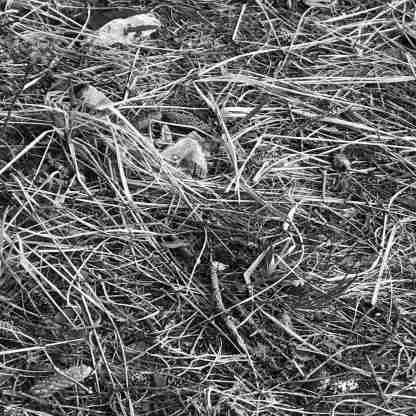plastic: (158, 131, 213, 178)
